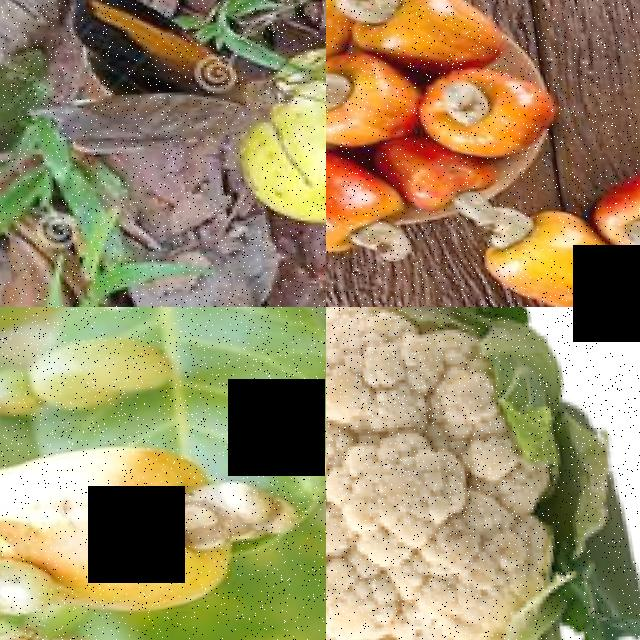cashew: (152, 453, 303, 569), (393, 152, 495, 220), (0, 533, 53, 640), (446, 205, 537, 249), (350, 213, 409, 280), (425, 74, 490, 123), (326, 0, 402, 28), (607, 208, 640, 258), (326, 45, 349, 116)
cauliflower: (326, 307, 637, 640)
